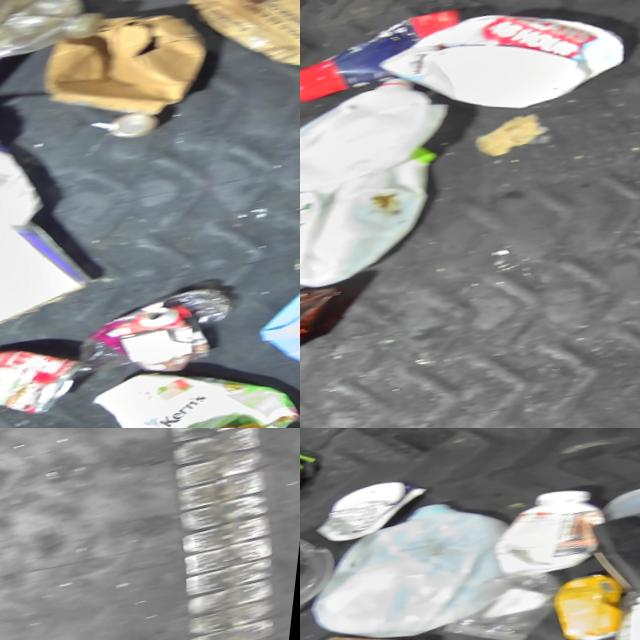can: (0, 327, 109, 428), (546, 561, 640, 640), (311, 612, 444, 640), (108, 103, 170, 144)
milk_jug: (300, 480, 537, 640), (300, 135, 467, 302), (300, 62, 466, 205)
non_white_jug: (249, 241, 300, 414)
plastic_bottle: (0, 0, 119, 88)
